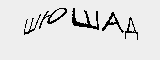А: (100, 11, 122, 34)
Д: (122, 17, 143, 41)
Ш: (71, 7, 101, 31), (22, 12, 40, 36)
Ю: (37, 5, 68, 32)
